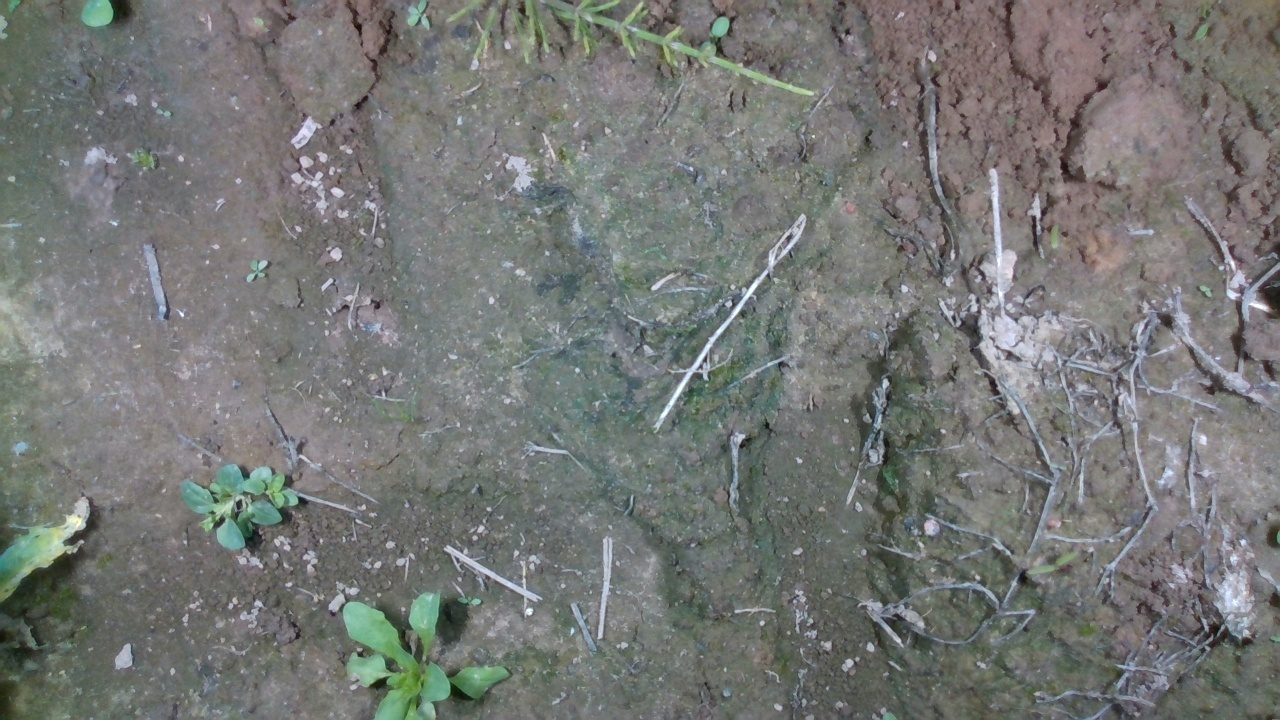weed: (120, 140, 158, 178), (244, 254, 271, 283)
